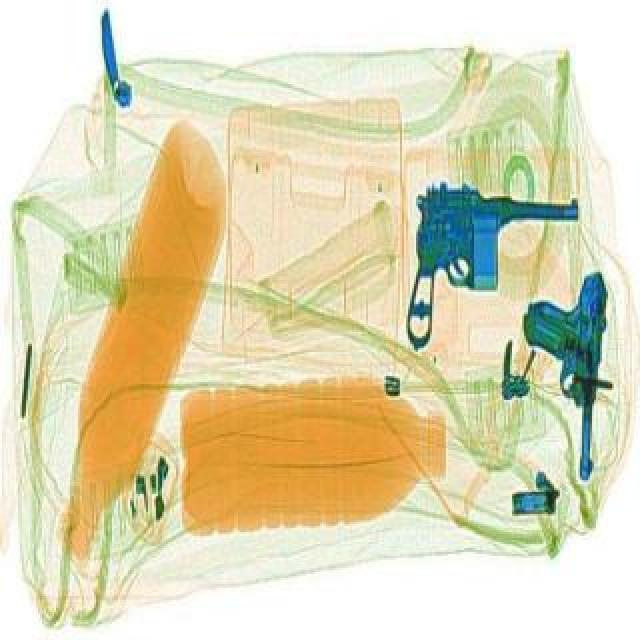gun: (404, 176, 584, 352), (510, 264, 610, 480)
